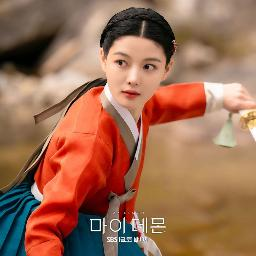face: (109, 38, 161, 104)
